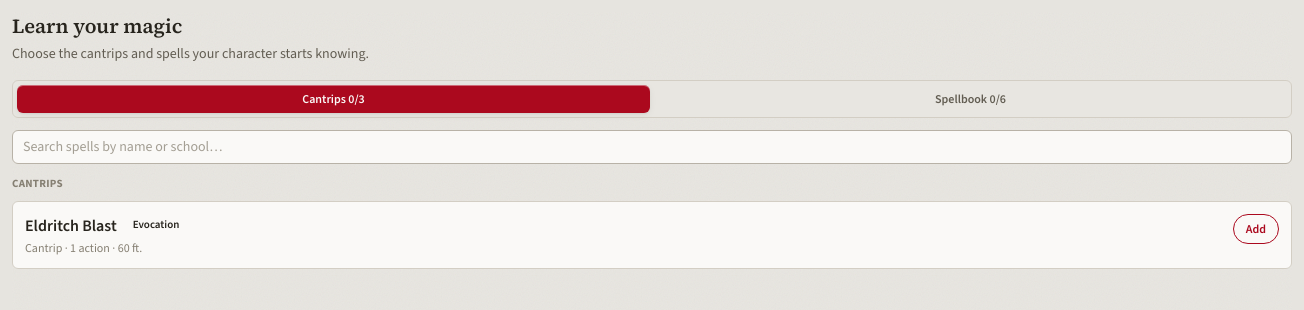
Test case: CreationSpellsStep › Wizard spellbook (#1513) › labels the leveled group Spellbook, shows the split note, and caps at spellbookSize
Check: the radio button "Cantrips 0/3" is shown, box left=17, top=85, right=650, bottom=113
Click the radio button labelled "Spellbook 0/6". click: (970, 99)
box: left=654, top=85, right=1287, bottom=113
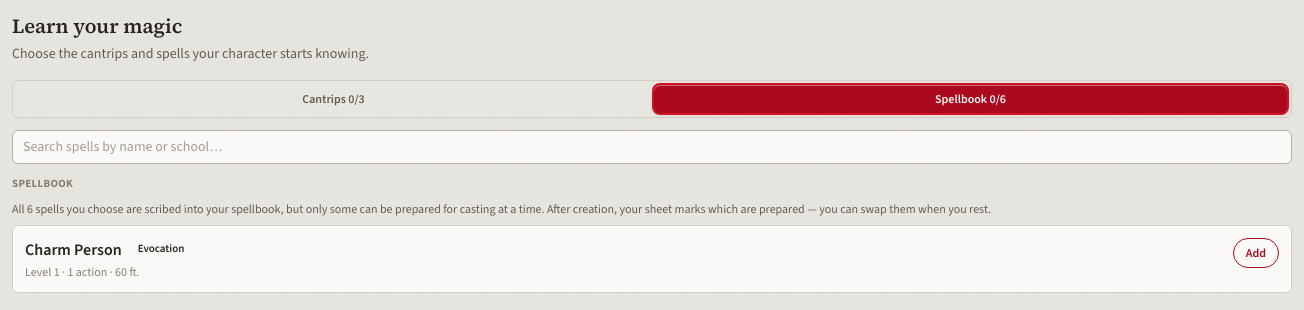
Check: the text "All 6 spells you choose are scribed into your spellbook" is shown, box left=12, top=200, right=991, bottom=216
